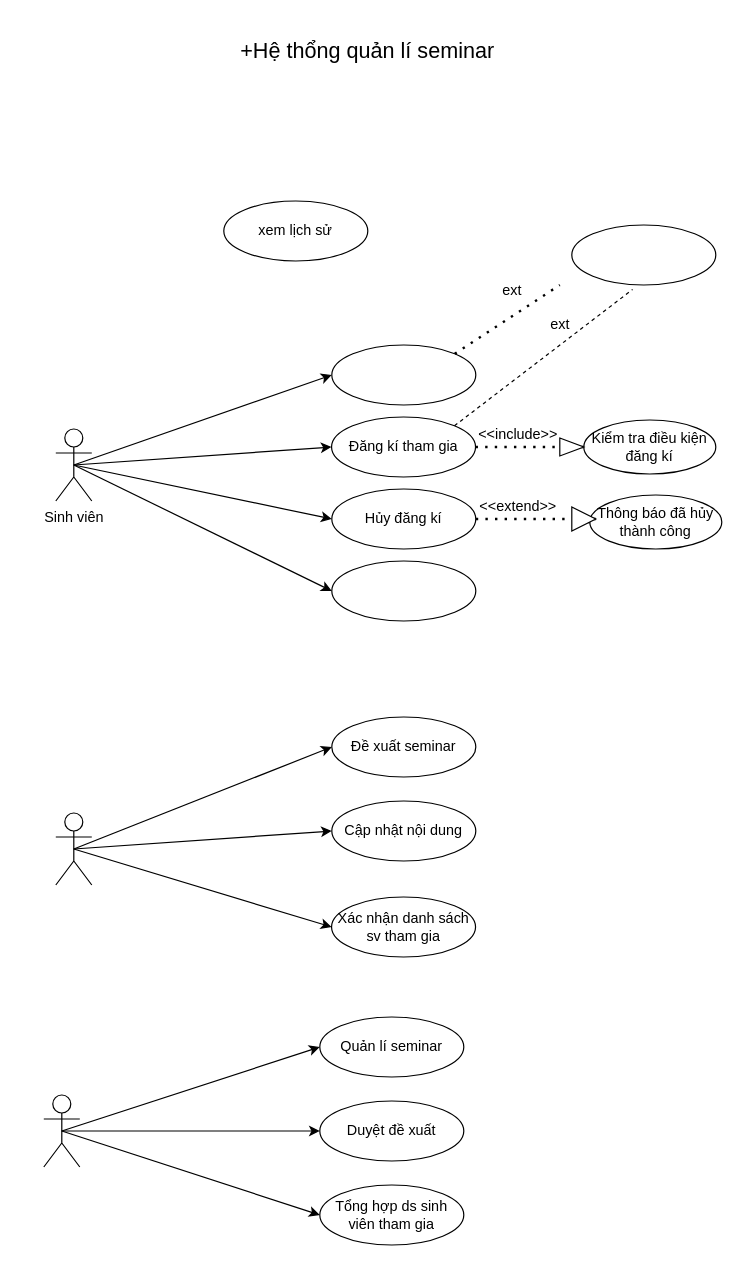
The diagram is 743 pixels wide and 1266 high, and some of its shapes have lost their labels. Here are the shapes that lost their labels. From the top down, the box of each, then its label:
(571, 224, 716, 285): Xem chi tiết
(331, 344, 476, 405): Xem danh sách seminar
(331, 560, 476, 621): Xem lịch sử tham gia
(55, 812, 92, 885): Giảng viên
(43, 1094, 80, 1167): Cán bộ khoa
